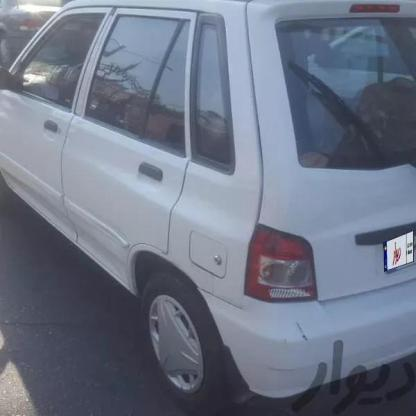Car: (0, 0, 416, 416), (0, 2, 50, 58)
